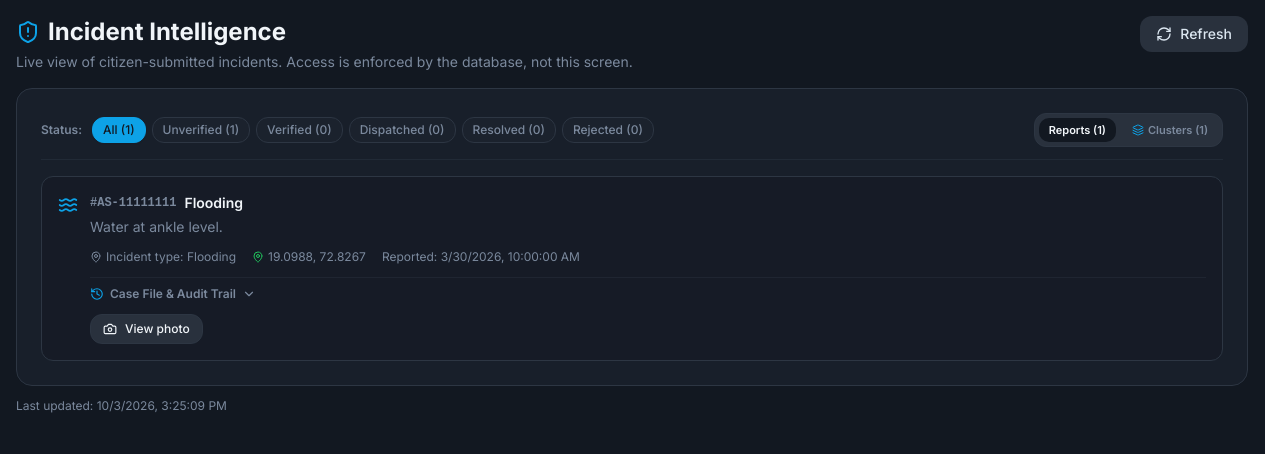
Test: photos use signed URLs only › reports a signed URL failure instead of rendering a broken image
The image size is (1265, 454).
Click the button with test id "incident-view-photo" at (146, 329), box [90,314,203,344]
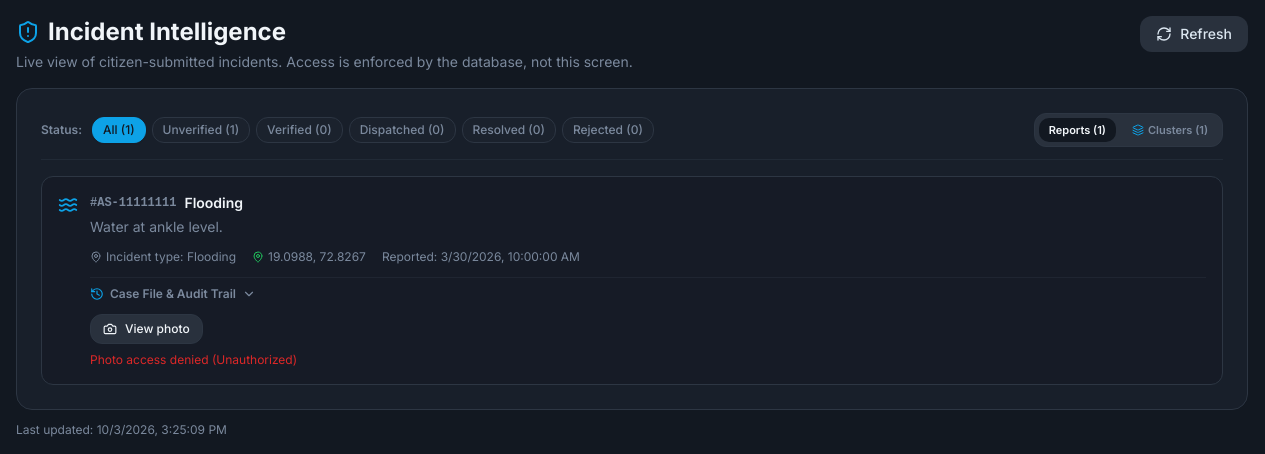
Expected: the message with test id "incident-photo-error" shows "Unauthorized", [216,352,293,367]
